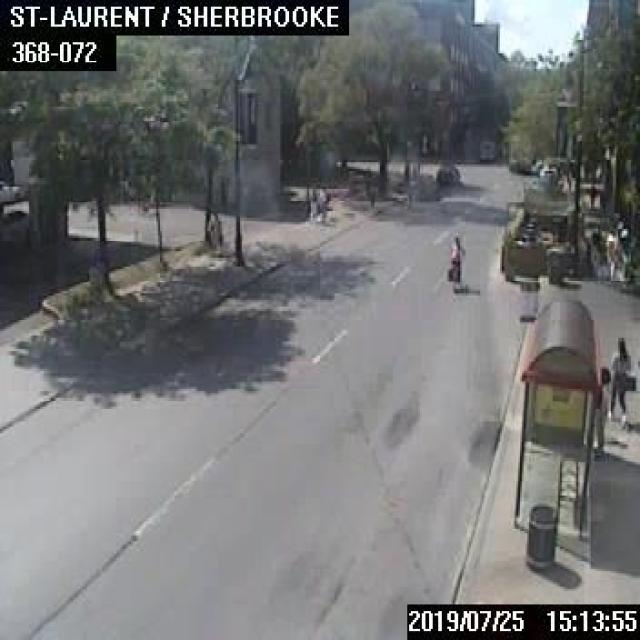cyclist: (444, 233, 464, 290)
pedestrian: (608, 336, 634, 424), (592, 230, 605, 281), (315, 180, 327, 224), (586, 180, 596, 209)
vehicle: (434, 162, 460, 182), (476, 139, 494, 159)
